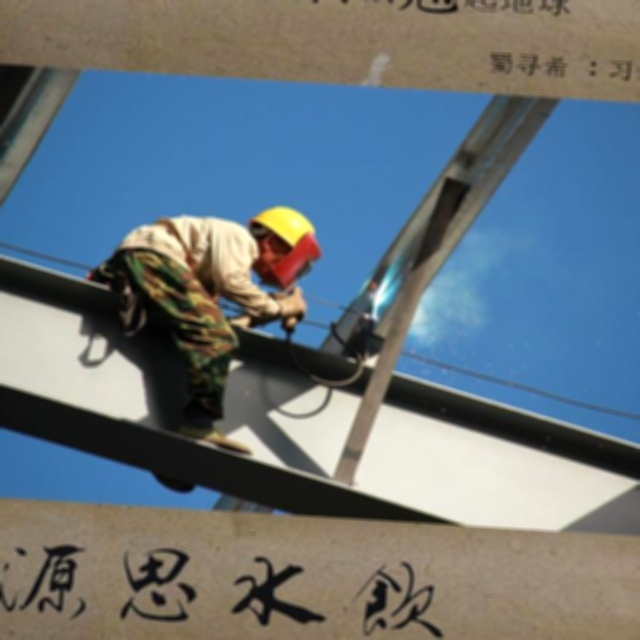Con_Casco: (252, 202, 320, 280)
